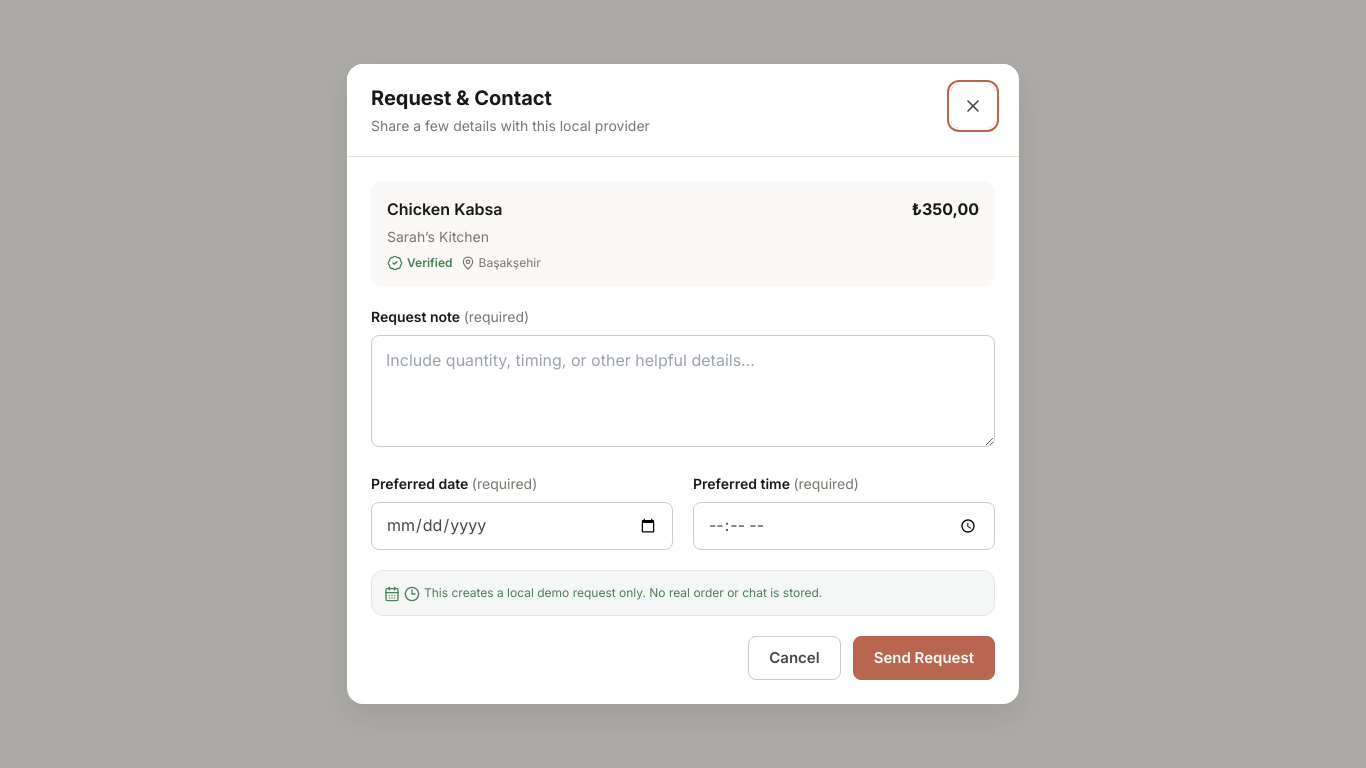
Test: customer experience › validates required request details
Click the button "Send Request" at [924, 658], box [853,636,995,680]
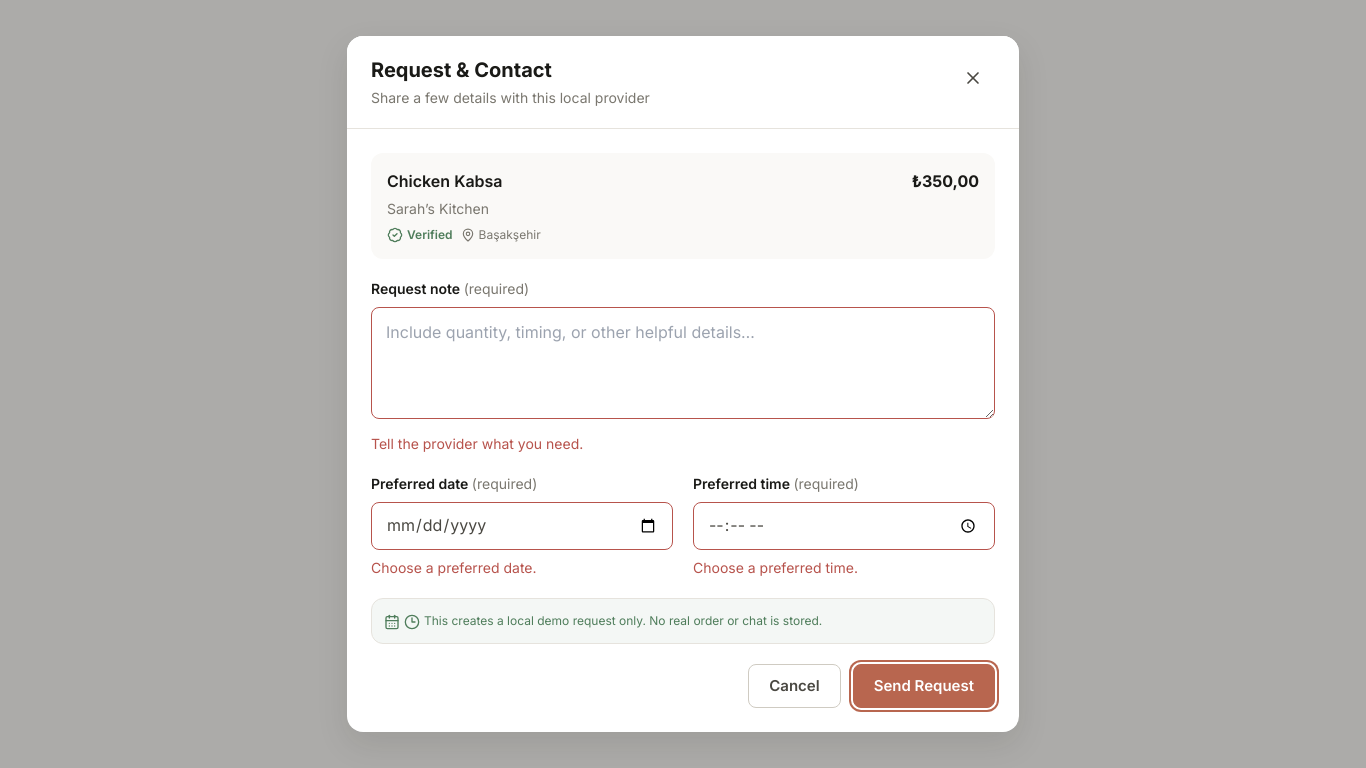
Expected: the text "Tell the provider what you need." is shown, [371,435,583,452]
Expected: the text "Choose a preferred date." is shown, [371,559,537,576]
